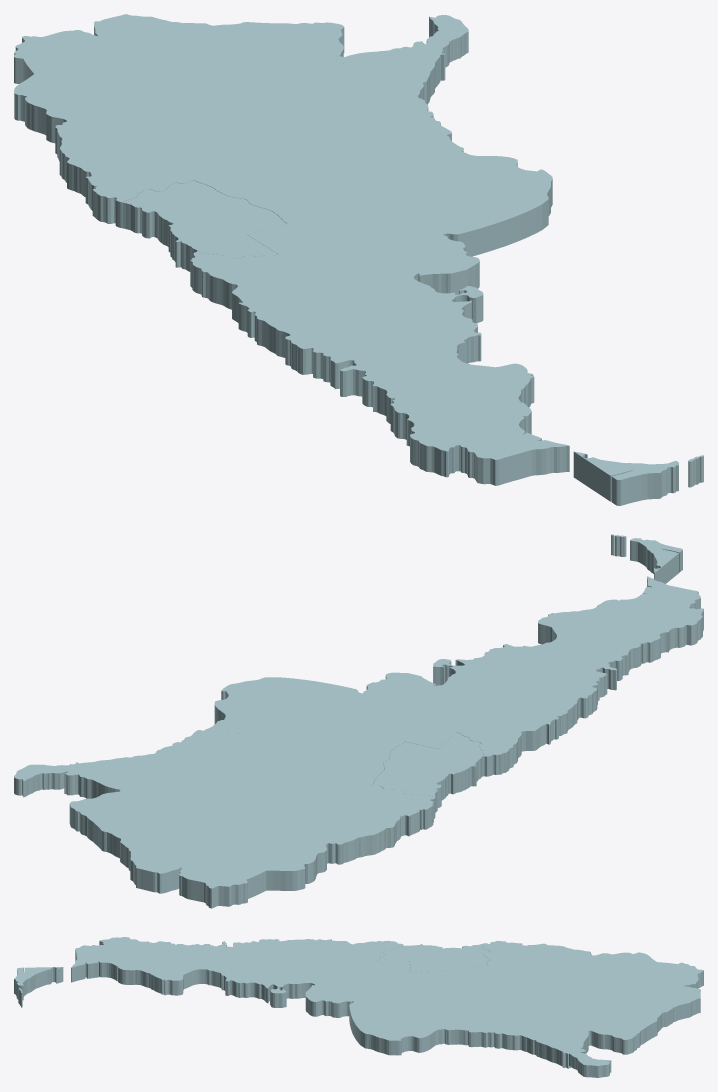
Rendered from ArgentianMap.fbx.
The picture shows the model from 3 angles, top to bottom: view 1: azimuth 30°, elevation 25°; view 2: azimuth 150°, elevation 25°; view 3: azimuth 270°, elevation 25°; orthographic projection. The views are drawn at different scales.
Visible parts, largest first — view 1: Shape9, Shape19, Shape11, Shape22, Shape24, Shape16, Shape4, Shape3, Shape23, Shape13, Shape5, Shape14 (+11 smaller); view 2: Shape9, Shape19, Shape11, Shape16, Shape22, Shape24, Shape4, Shape23, Shape21, Shape3, Shape14, Shape13 (+11 smaller); view 3: Shape19, Shape9, Shape11, Shape22, Shape16, Shape7, Shape4, Shape24, Shape15, Shape17, Shape3, Shape13 (+11 smaller).
Boxes of the visible parts, x1,y1,x2,y2 form: Shape9: [373, 358, 569, 485]; Shape19: [338, 147, 552, 288]; Shape11: [285, 286, 483, 407]; Shape22: [264, 245, 473, 357]; Shape24: [122, 180, 286, 271]; Shape16: [14, 14, 185, 121]; Shape4: [207, 112, 354, 200]; Shape3: [247, 190, 425, 259]; Shape23: [190, 250, 305, 346]; Shape13: [154, 55, 290, 128]; Shape5: [269, 67, 400, 177]; Shape14: [59, 147, 200, 228]; Shape9: [538, 576, 703, 675]; Shape19: [214, 672, 405, 743]; Shape11: [433, 641, 622, 718]; Shape16: [130, 832, 305, 899]; Shape22: [386, 673, 577, 731]; Shape24: [372, 732, 483, 812]; Shape4: [228, 737, 360, 800]; Shape23: [457, 707, 567, 776]; Shape21: [264, 796, 356, 883]; Shape3: [328, 694, 456, 748]; Shape14: [348, 785, 435, 854]; Shape13: [162, 783, 286, 837]; Shape19: [308, 994, 466, 1055]; Shape9: [71, 937, 205, 995]; Shape11: [202, 939, 288, 1007]; Shape22: [283, 939, 376, 1012]; Shape16: [609, 952, 700, 1016]; Shape7: [598, 1002, 690, 1054]; Shape4: [432, 976, 546, 1006]; Shape24: [377, 944, 490, 972]; Shape15: [450, 1013, 529, 1050]; Shape17: [520, 1022, 588, 1068]; Shape3: [345, 960, 431, 994]; Shape13: [539, 980, 625, 1007].
Bounding box in the file's own units: 135 × 7.21 × 306.
